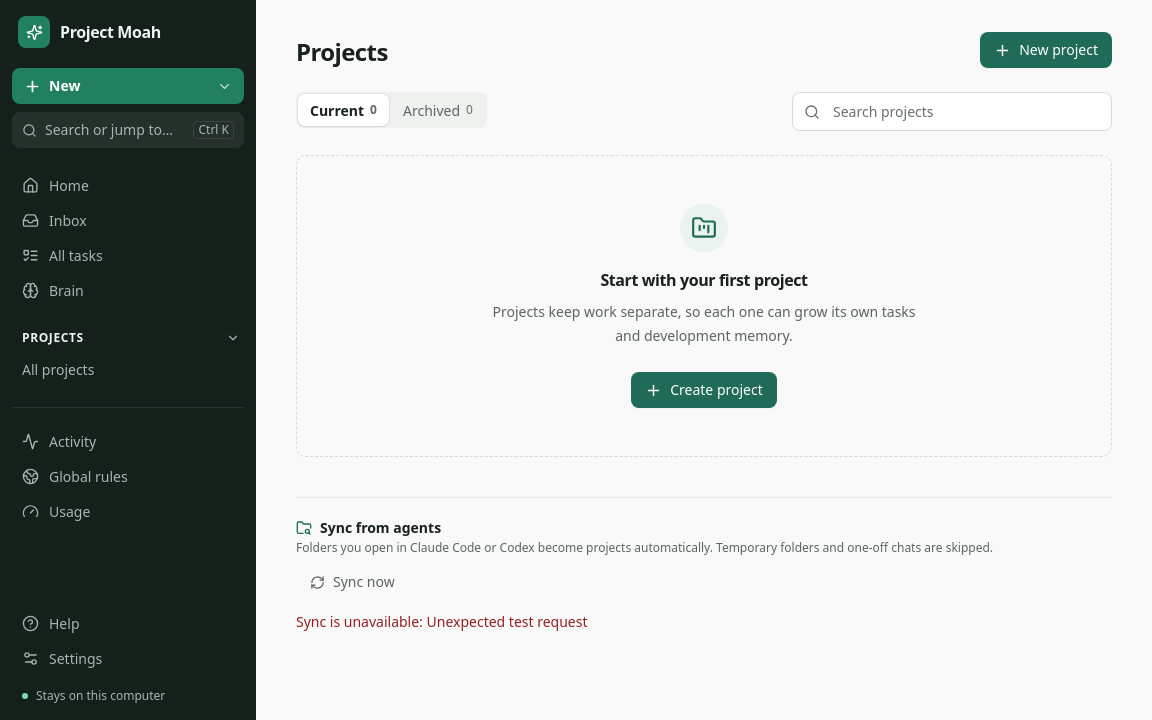
project journeys › creates a project and opens its own overview
The image size is (1152, 720).
Step 1. Click the button "New project" → [1046, 50], box [980, 32, 1112, 68]
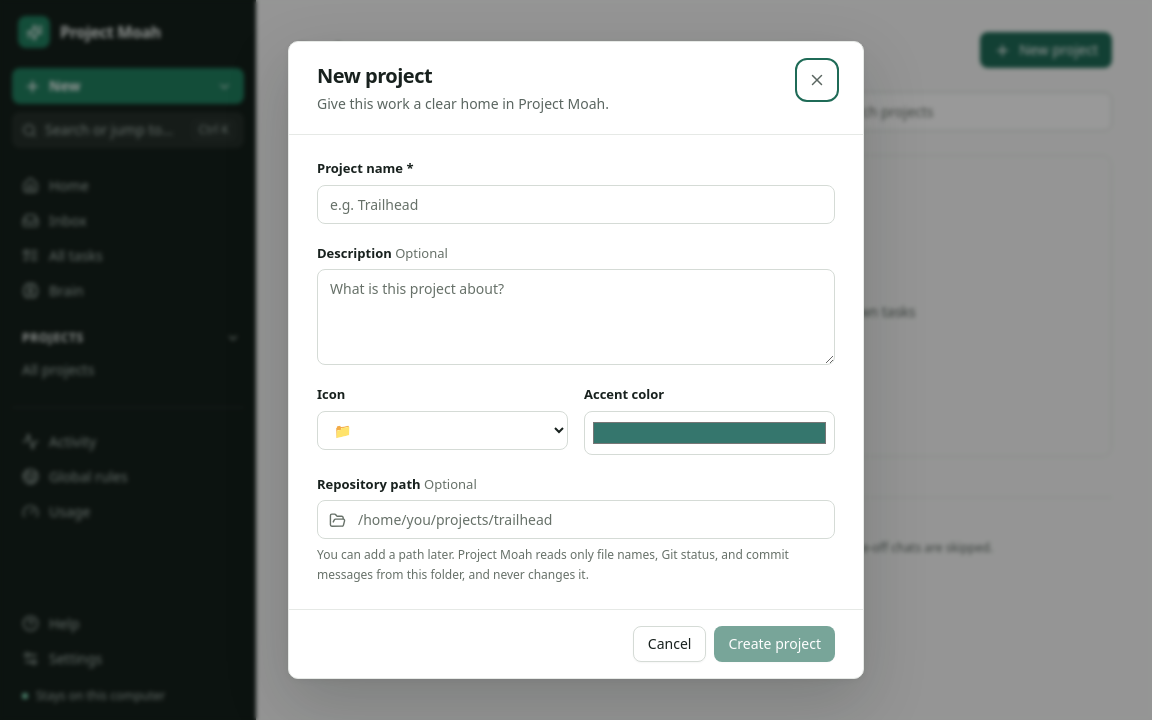
Expected: the dialog "New project" is shown, [288, 41, 864, 679]
Step 2. Type "Trailhead" into the field labelled "Project name *" → [576, 204], box [317, 184, 835, 224]
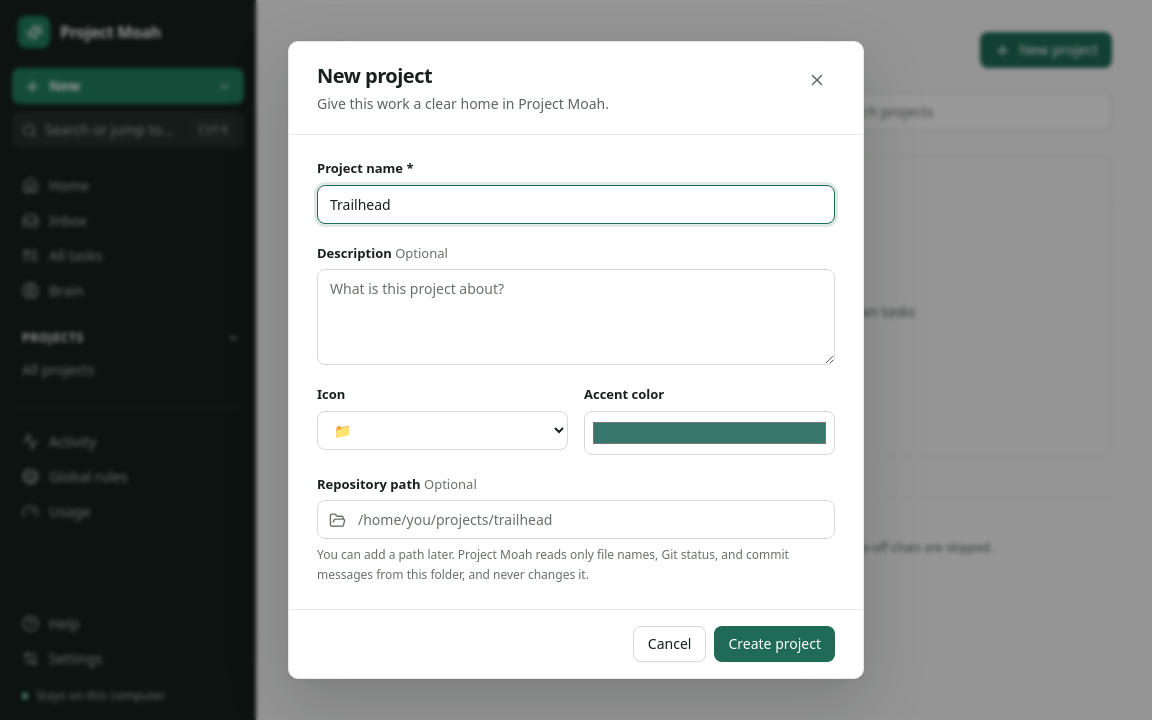
Step 3. Type "A cooperative adventure" into the text box labelled "Description Optional" → [576, 317], box [317, 269, 835, 365]
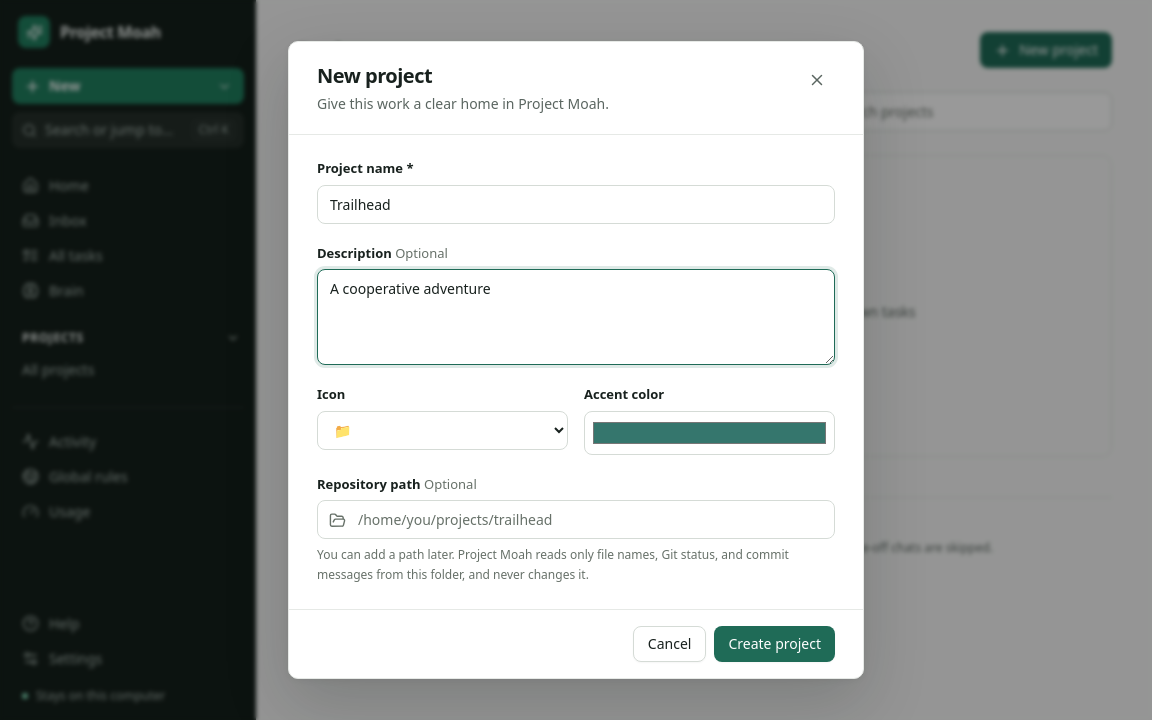
Step 4. Click the button "Create project" → [775, 644], box [714, 626, 835, 662]
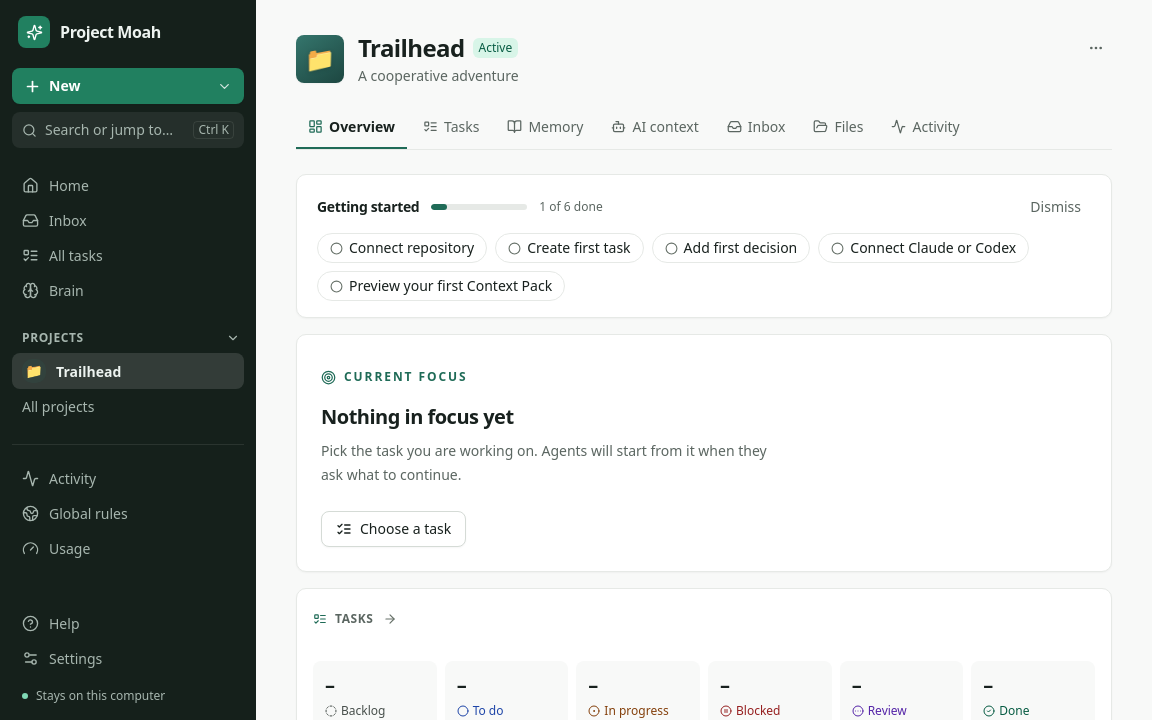
Expected: the heading "Trailhead" is shown, [358, 32, 464, 64]
Expected: the heading "Nothing in focus yet" is shown, [321, 403, 514, 430]
